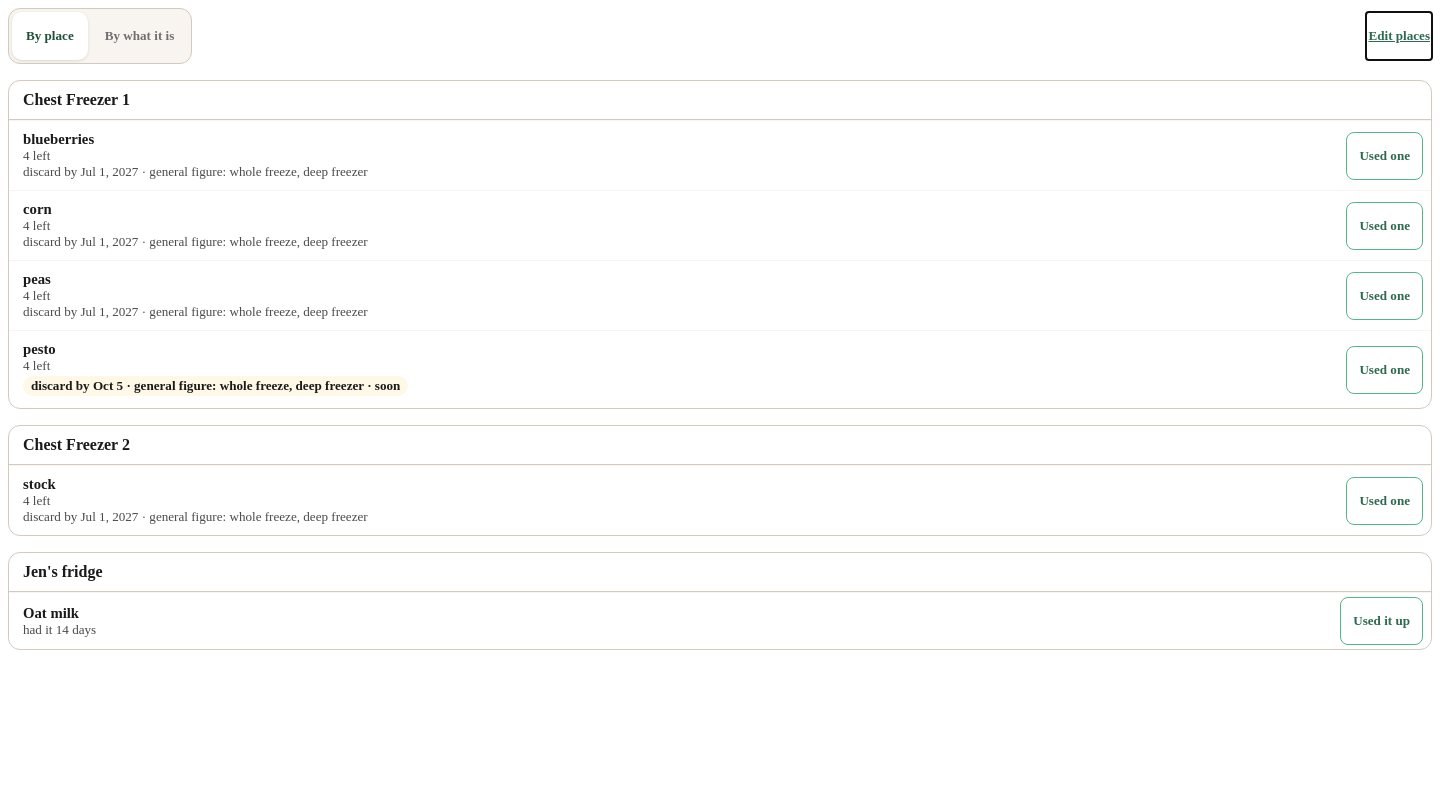
the door — Edit places on the Group-by row › opens a sheet titled Places; Close closes it, and the door has the focus back
This screenshot has width=1440, height=810.
Step 1. Click the button with test id "pantry-edit-places" → coordinates (1399, 36), box [1366, 12, 1432, 60]
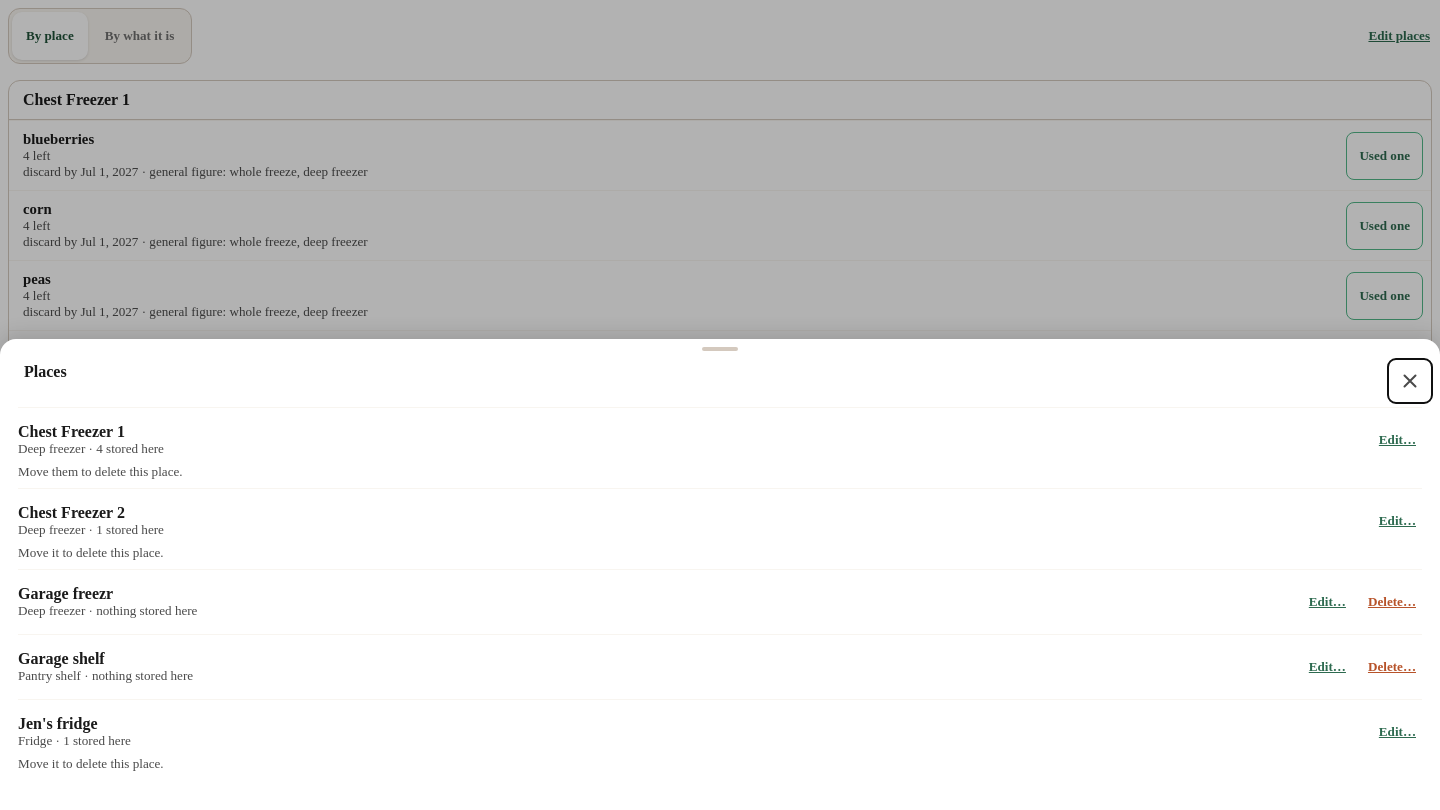
Check: the text "Places" is shown, box [24, 363, 67, 380]
Check: the element with test id "places-sheet" is shown, box [0, 407, 1439, 798]
Step 2. Click the button named "Close" → coordinates (1410, 381), box [1388, 359, 1432, 403]
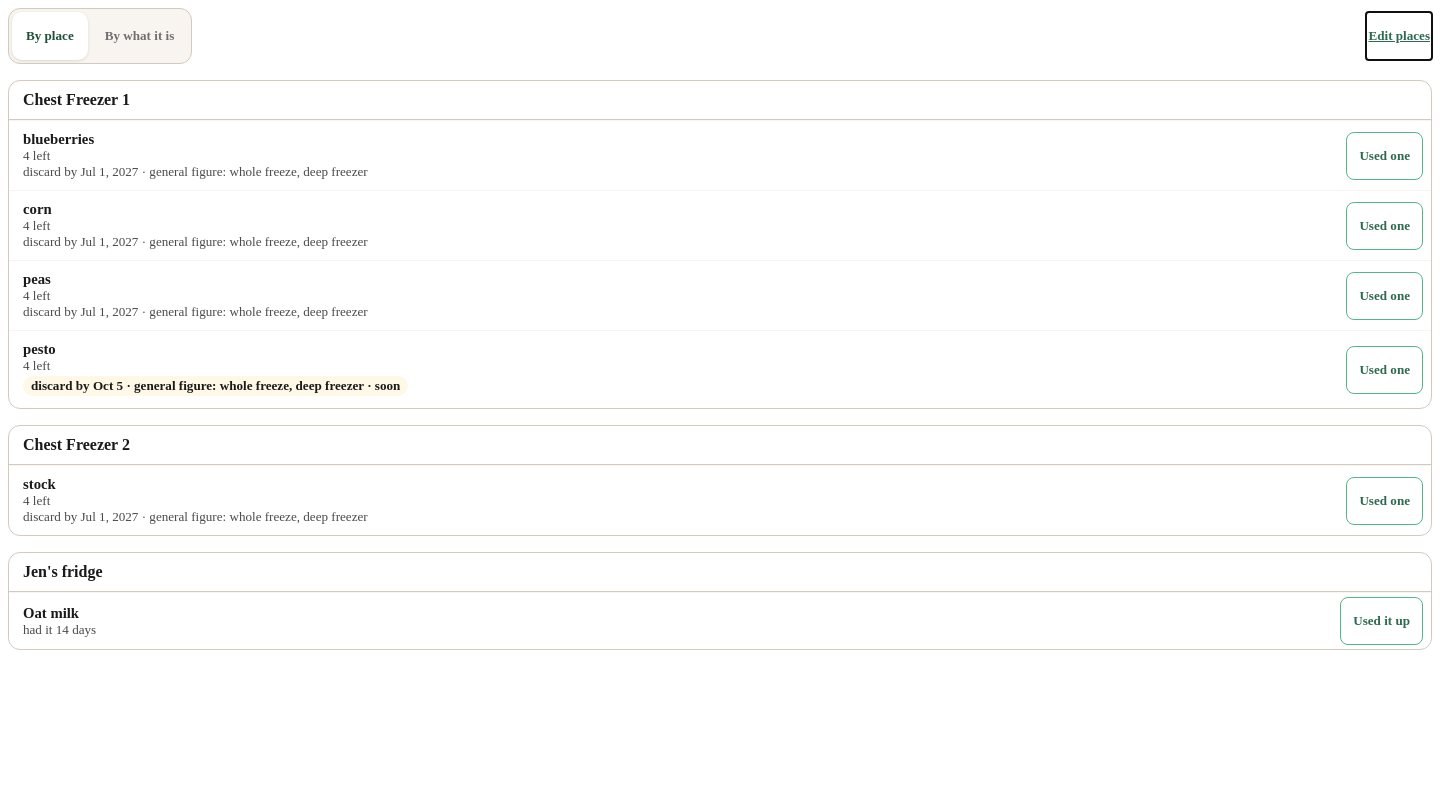
Check: the dialog is gone
